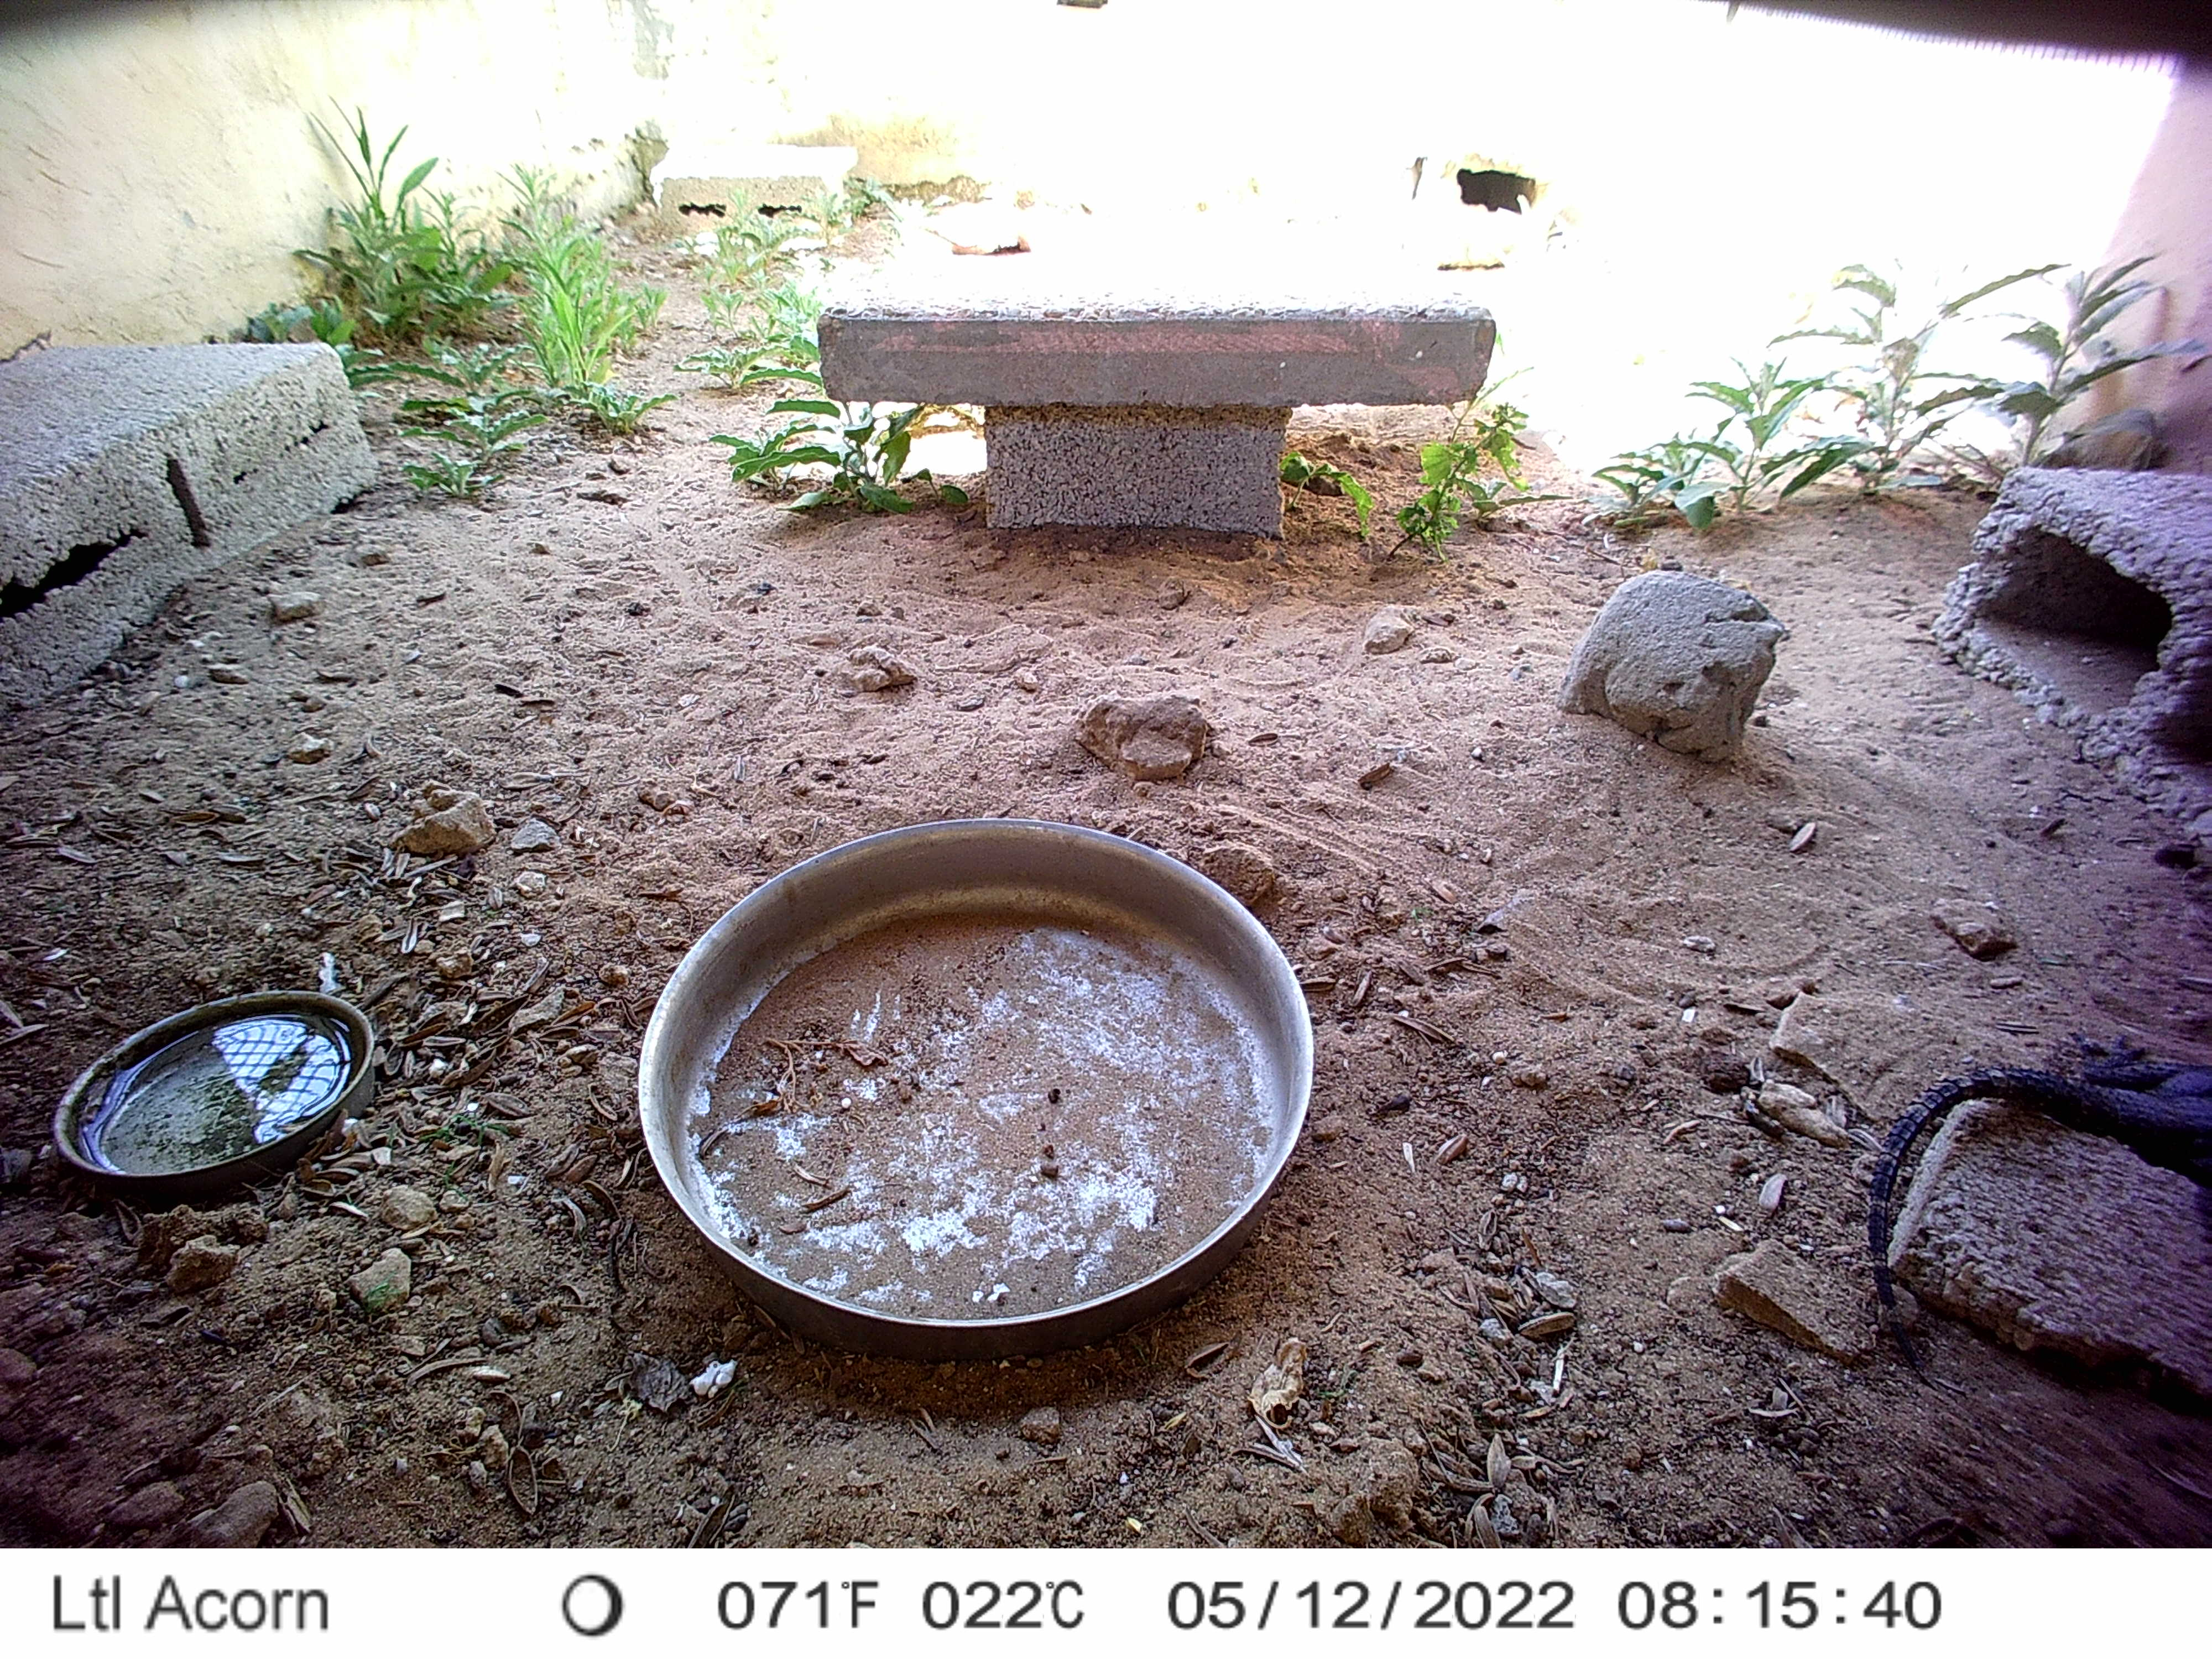lizard: (855, 647, 1040, 723), (1648, 599, 1709, 699)
